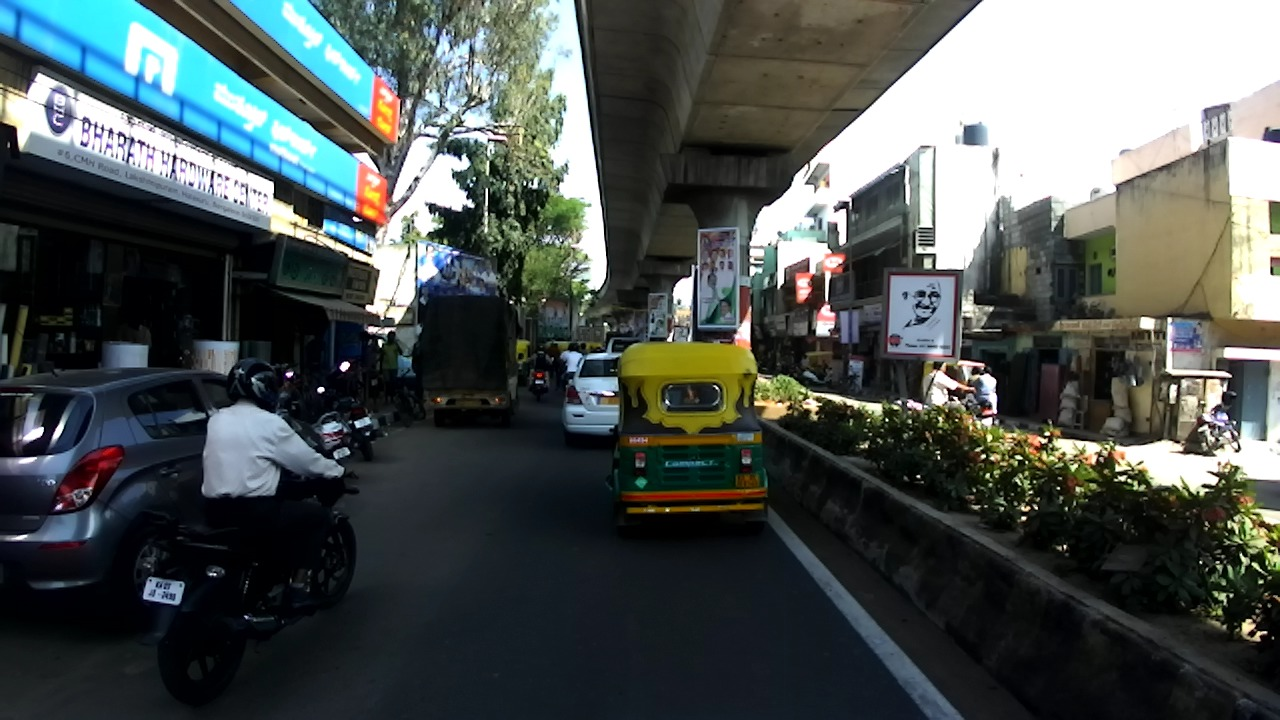autorickshaw: (606, 340, 769, 533), (922, 359, 985, 395), (515, 338, 531, 390), (545, 340, 575, 356), (576, 339, 593, 355), (587, 340, 603, 352)
car: (1, 367, 233, 626), (562, 352, 626, 447), (365, 328, 414, 389), (606, 336, 642, 357)
motorcycle: (137, 450, 358, 707), (268, 363, 358, 478), (314, 362, 389, 461), (1197, 390, 1242, 456), (891, 394, 980, 427), (384, 368, 429, 427), (530, 356, 553, 401), (837, 366, 862, 397), (803, 366, 833, 390), (978, 401, 994, 429), (773, 362, 800, 377)
person: (378, 330, 403, 406), (410, 330, 424, 396), (127, 322, 155, 353), (367, 332, 380, 381), (799, 354, 810, 371)
rider: (199, 357, 358, 612), (921, 360, 976, 415), (527, 344, 553, 389), (974, 364, 1001, 406), (563, 344, 583, 392), (560, 342, 577, 391), (965, 366, 988, 399), (546, 342, 560, 368), (780, 350, 793, 371), (578, 341, 589, 357), (591, 345, 605, 352)
truck: (423, 294, 520, 429)
vehicle fallback: (604, 330, 621, 353)
